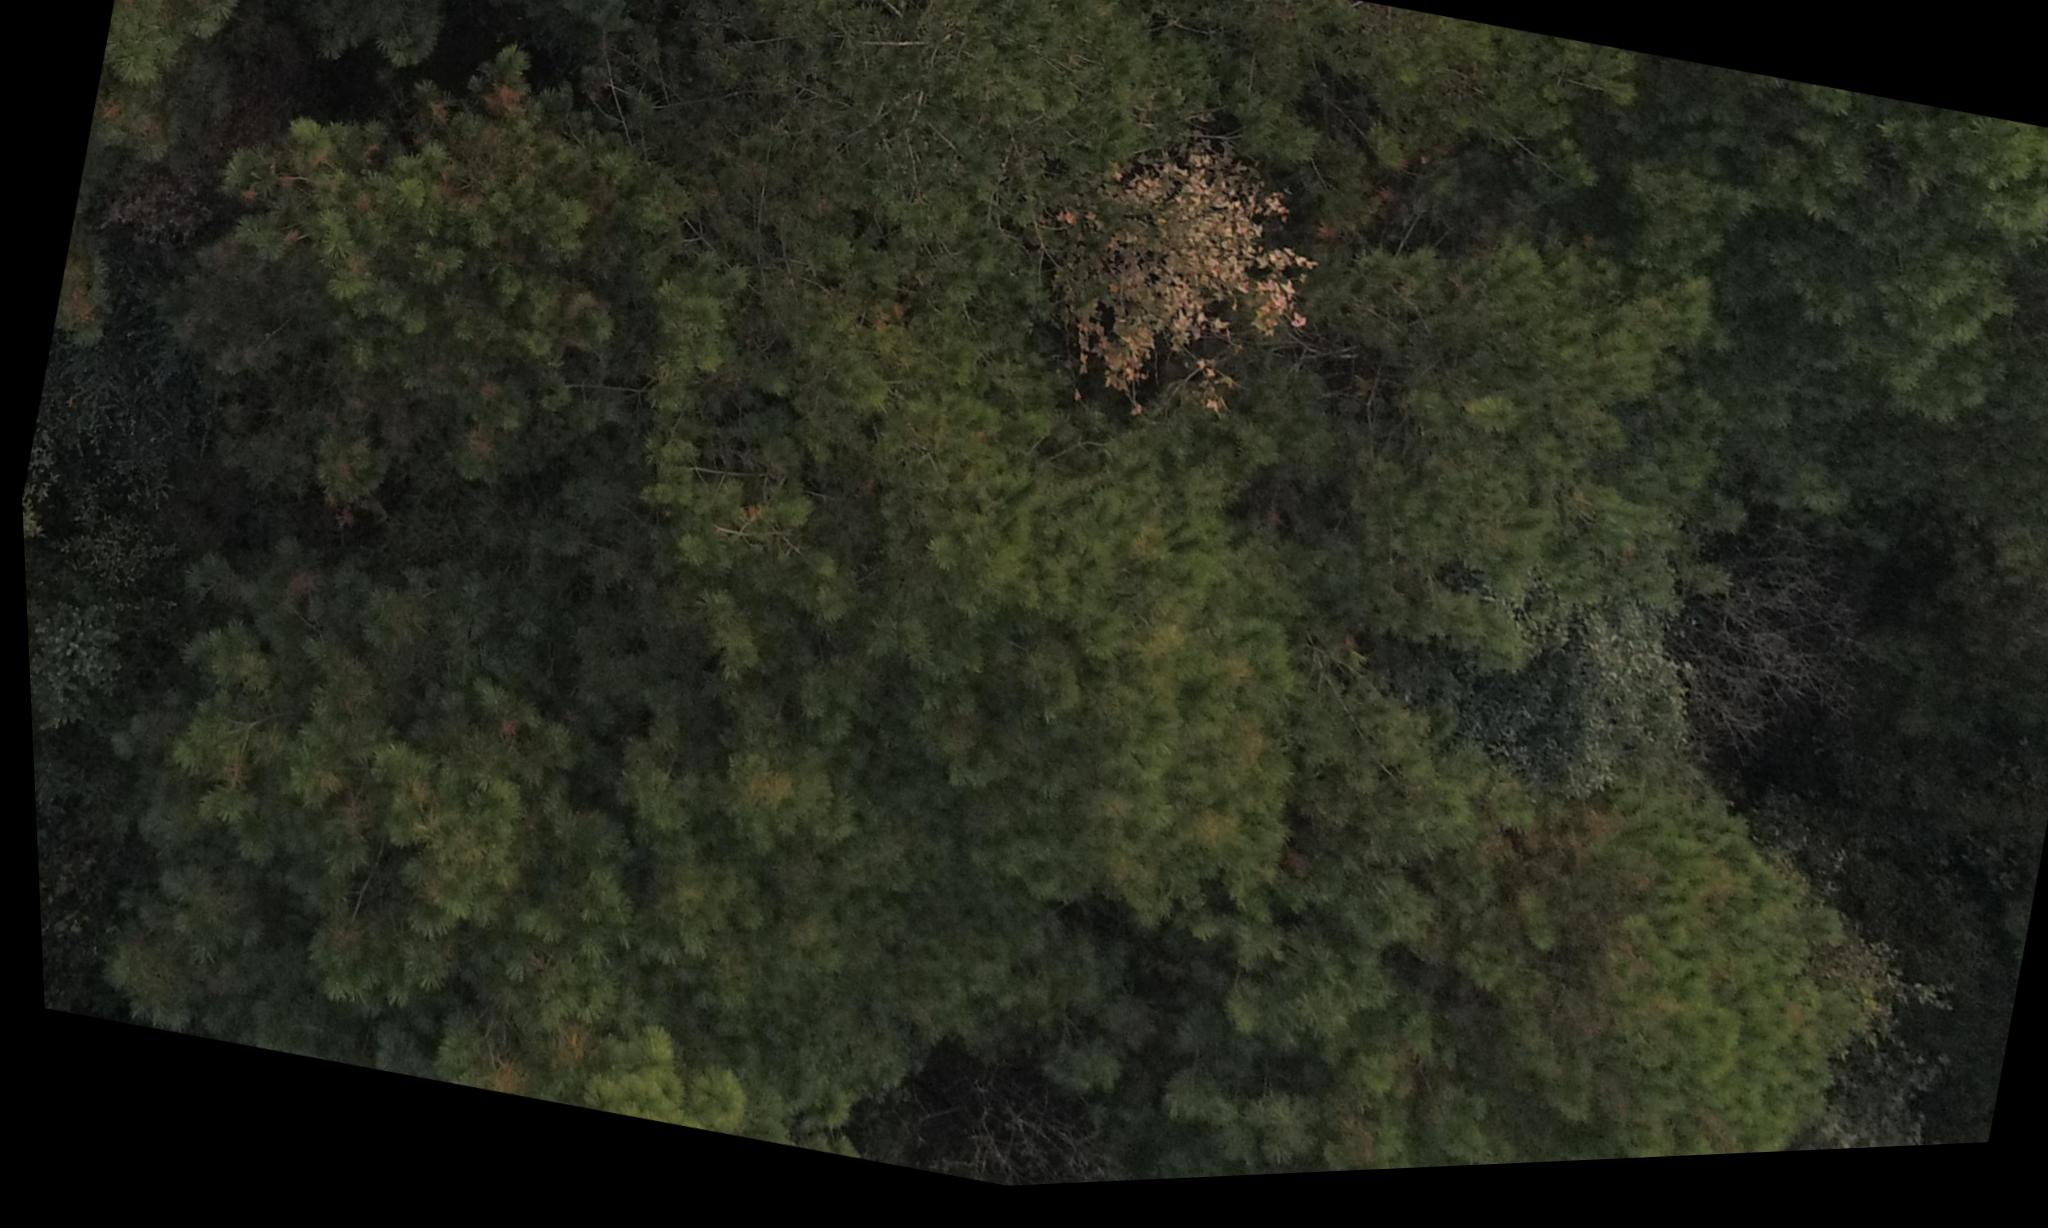heavy: (1023, 114, 1332, 444)
light: (76, 513, 610, 1047), (165, 0, 665, 554), (1373, 728, 1864, 1181)
